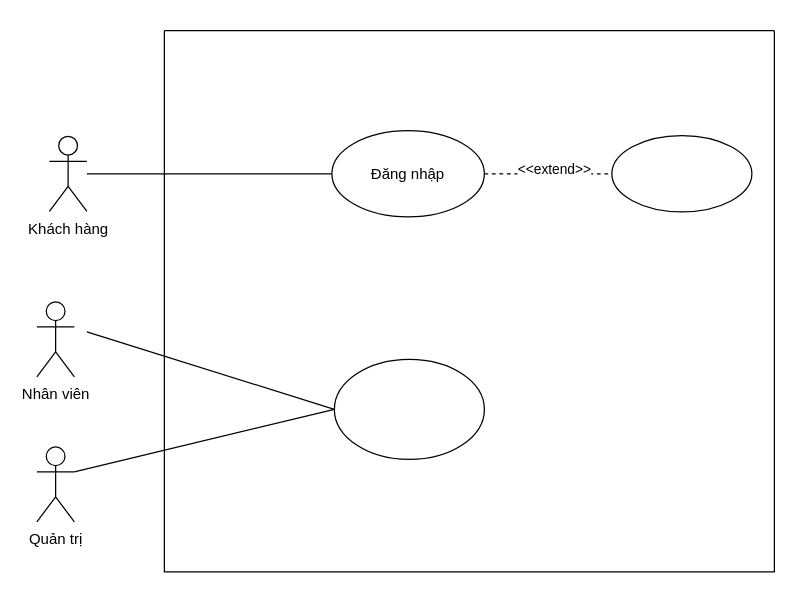
Image size: 796x594. Some labels were removed from this diagram. The shapes that lost their labels are listed below. From the top down, each one's centre as x and y in pixels, then its label:
[681,173]: Quên mật khẩu
[408,408]: Đăng nhập quản trị
